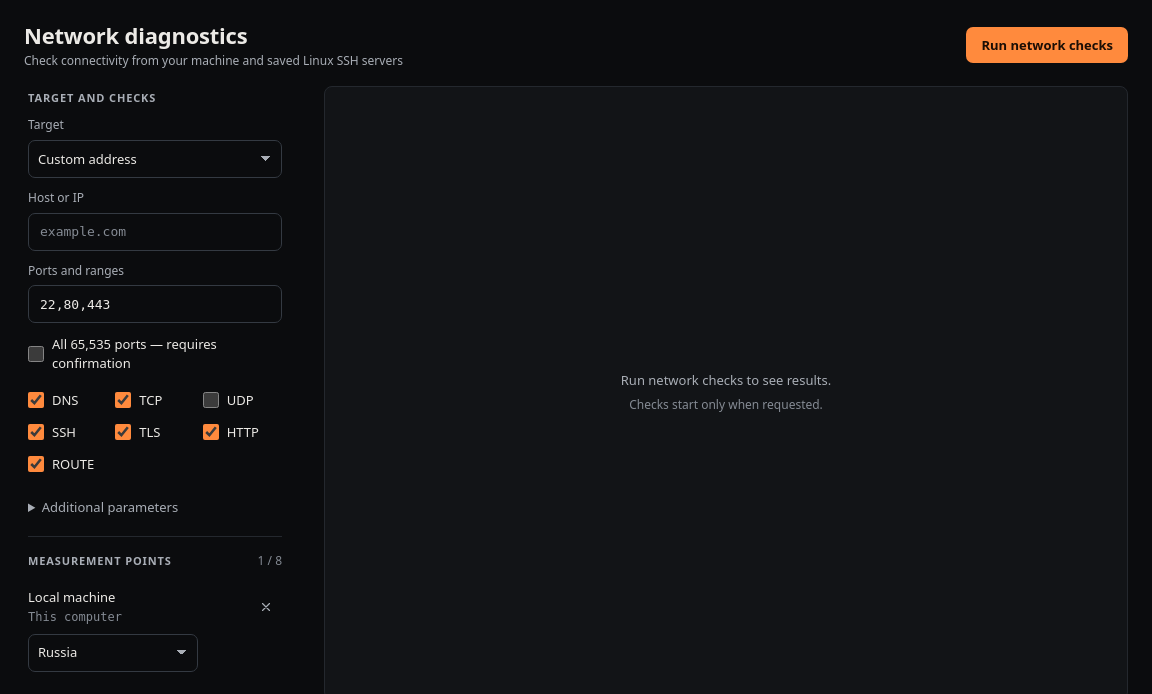
Test: network diagnostics › cancels an active run and retains collected results
The width and height of the screenshot is (1152, 694).
Click the button "Run network checks" at (1047, 45), box [966, 27, 1128, 63]
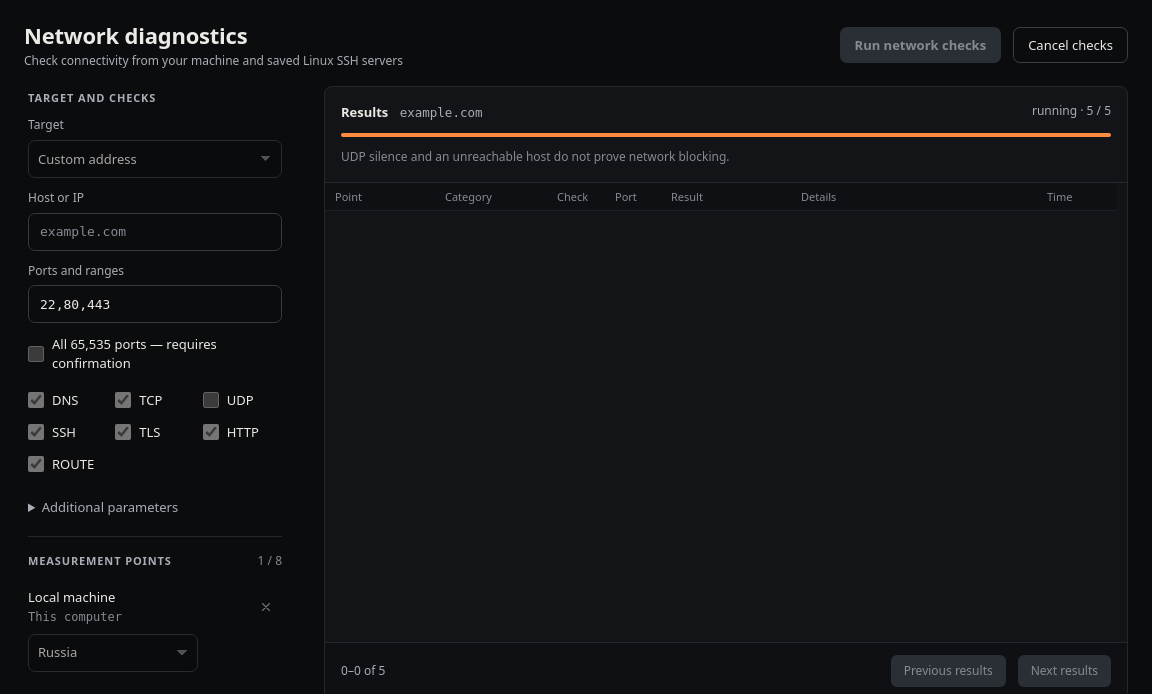
Check: the button "Cancel checks" is enabled
Click the button "Cancel checks" at (1071, 45), box [1013, 27, 1128, 63]
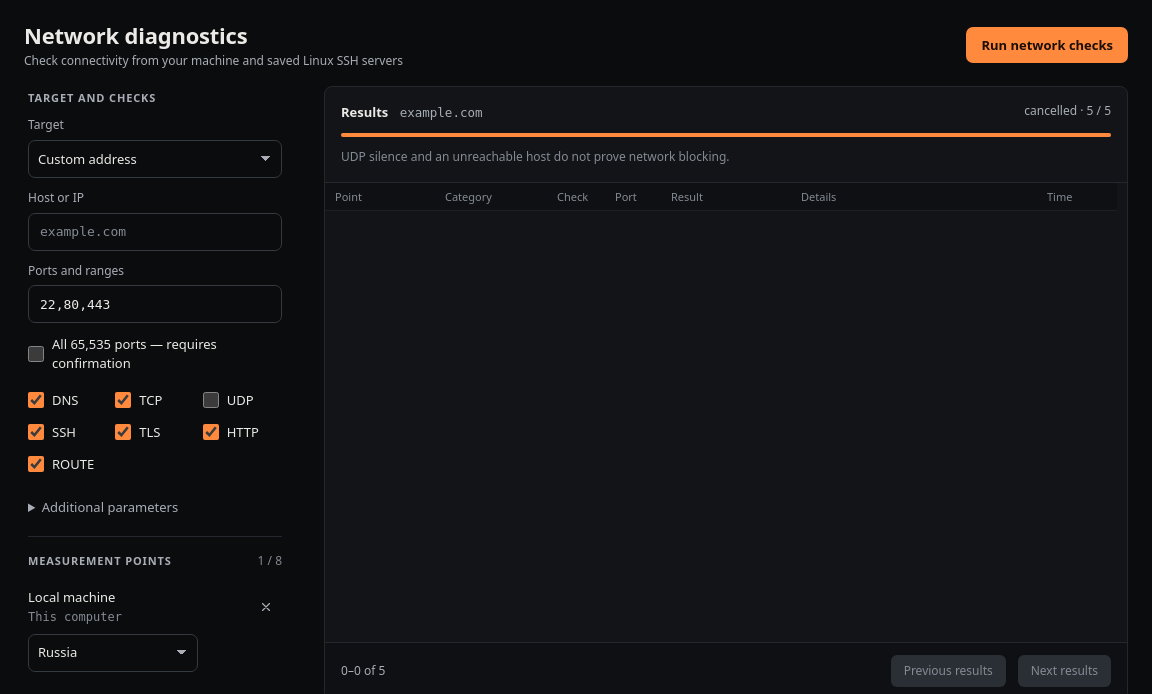
Check: the element named "Network check results" shows "cancelled", box [1024, 102, 1077, 119]
